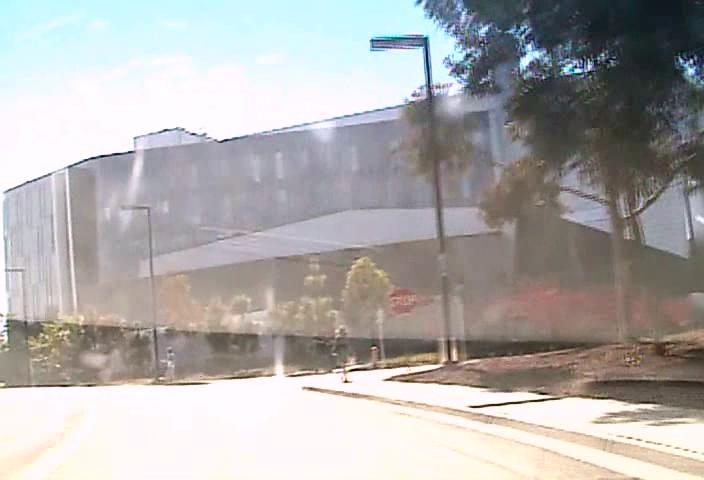stop: (389, 286, 418, 314)
